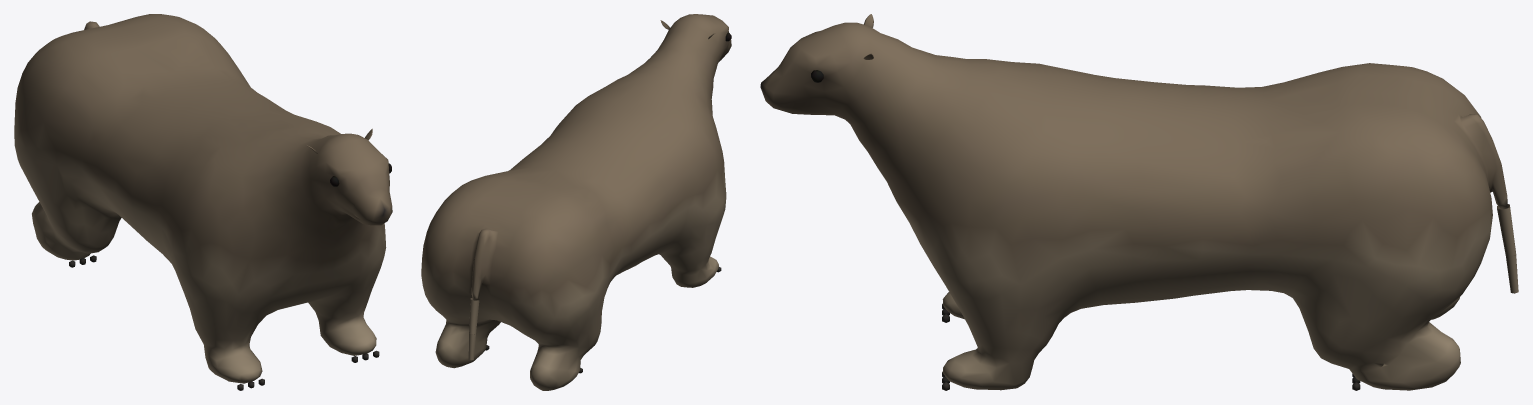
File: murmeltier.glb
The picture shows the model from 3 angles, left to right: view 1: azimuth 30°, elevation 25°; view 2: azimuth 150°, elevation 25°; view 3: azimuth 270°, elevation 25°; orthographic projection. The views are drawn at different scales.
Parts seen in each view (by area): view 1: lack; view 2: lack; view 3: lack.
Boxes of the visible parts, x1=… form: lack: x1=14, y1=14, x2=392, y2=390; lack: x1=421, y1=14, x2=731, y2=390; lack: x1=760, y1=14, x2=1518, y2=390.
Bounding box in the file's own units: 0.2103 × 0.2676 × 0.5655.
